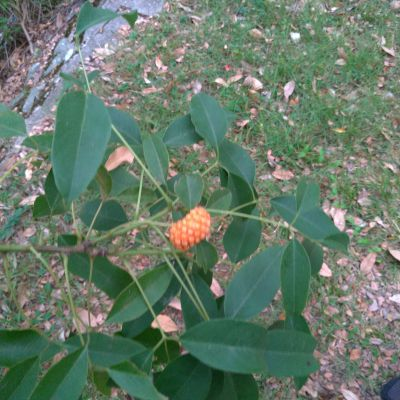eggs: (169, 205, 217, 252)
